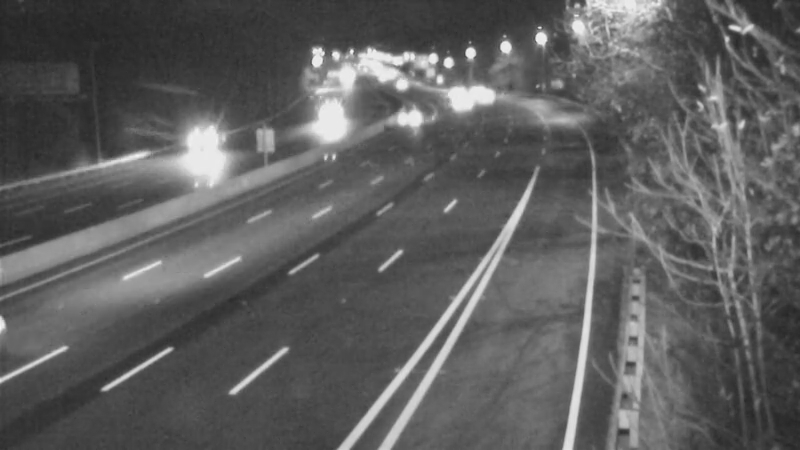vehicle: (377, 59, 427, 109), (435, 78, 485, 128), (384, 92, 434, 142), (191, 120, 241, 170), (305, 93, 355, 143)
